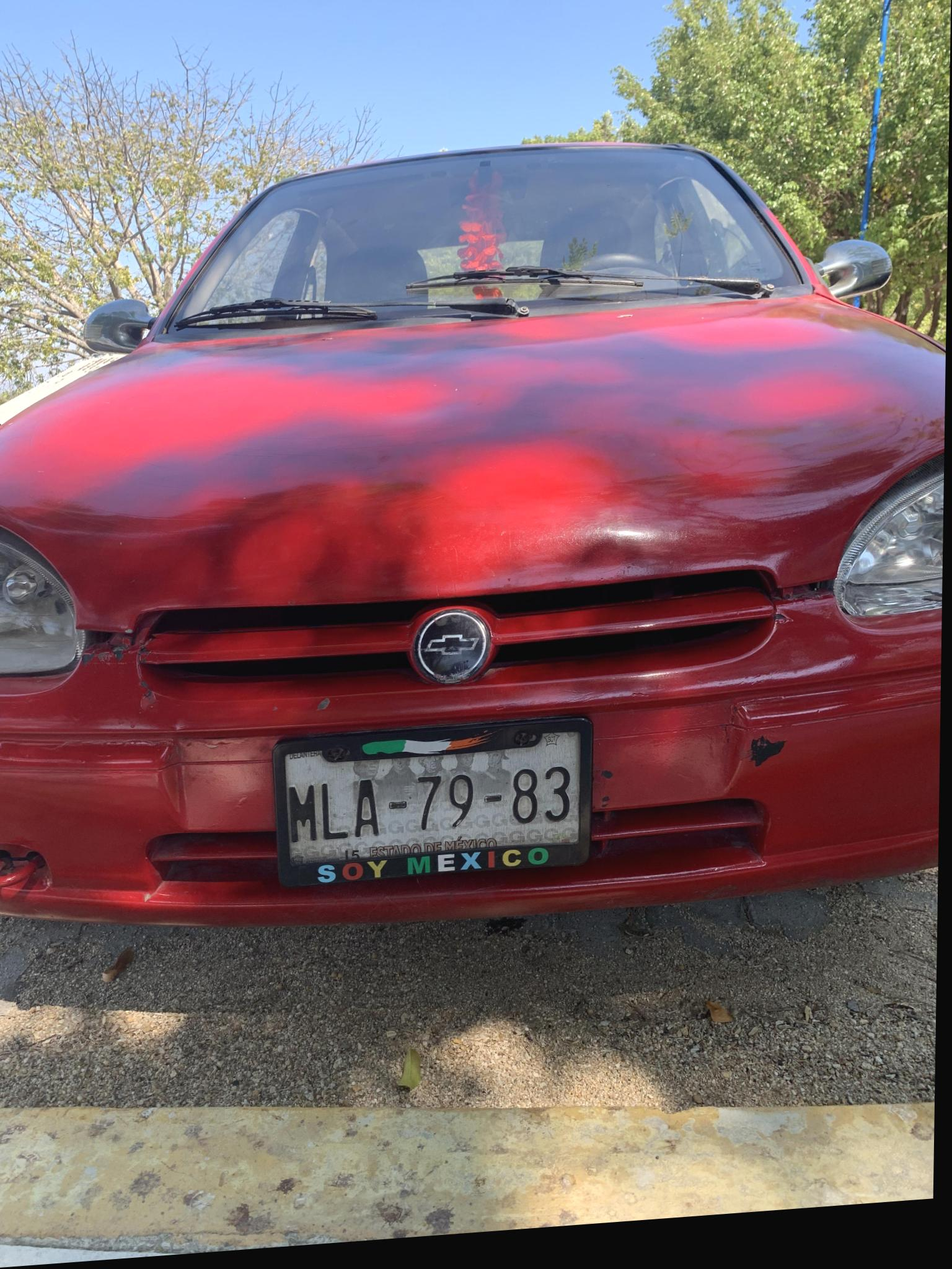License_Plate: (237, 693, 612, 926)
